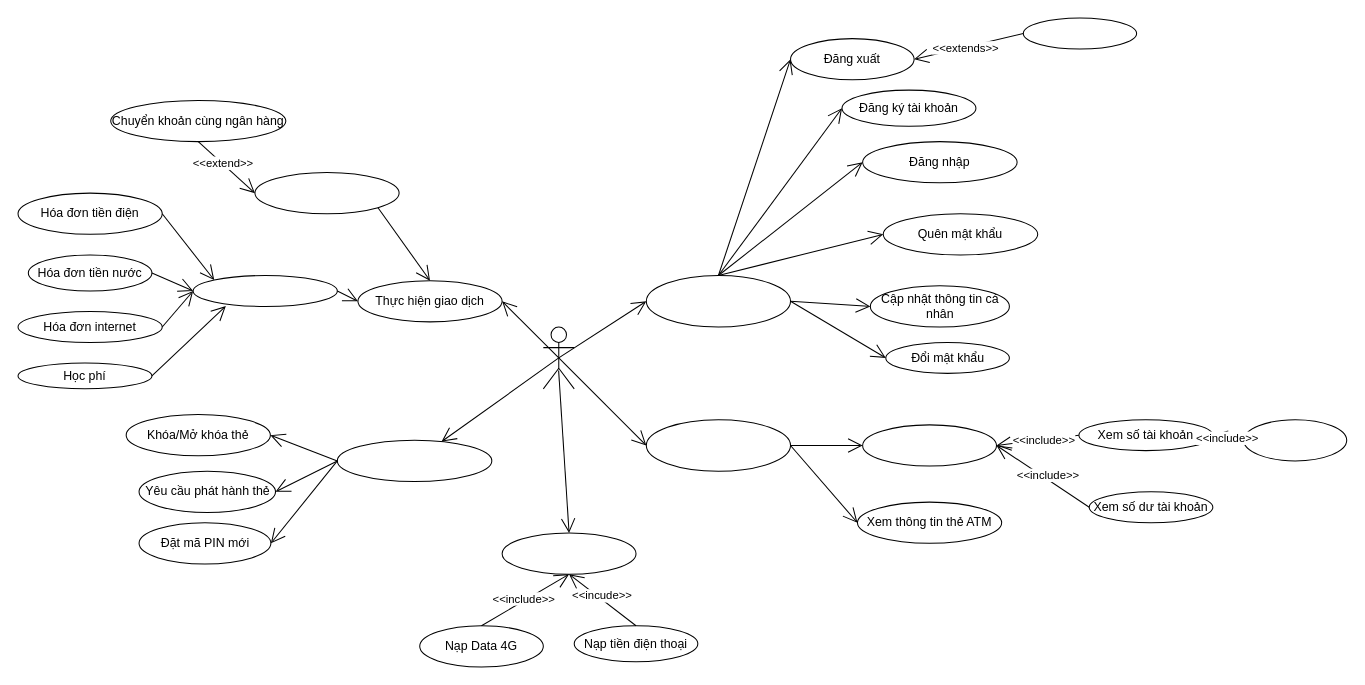
Image size: 1365x685. Some labels were removed from this diagram. The box of each missing label's shape, as (x1, y1, x2, y2) in pixels:
Chuyển khoản: (254, 171, 399, 214)
Chức năng quản lý tài khoản: (645, 274, 791, 327)
Chức năng SIM: (501, 532, 636, 574)
Chức năng xem thông tin tài khoản: (645, 419, 791, 471)
Customer: (542, 326, 574, 389)
Quản lý thẻ: (336, 439, 492, 482)
Sao chép số tài khoản: (1243, 419, 1347, 461)
Thanh toán hóa đơn: (192, 274, 337, 306)
Tự đông đăng xuất: (1022, 17, 1137, 49)
Xem thông tin tài khoản: (862, 424, 997, 466)
